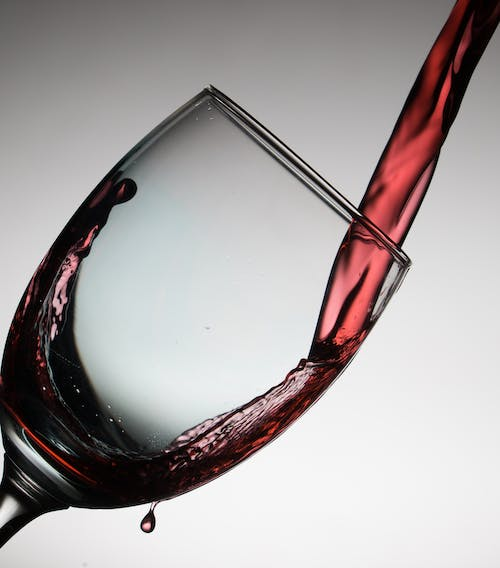alcohol: (0, 82, 414, 551)
